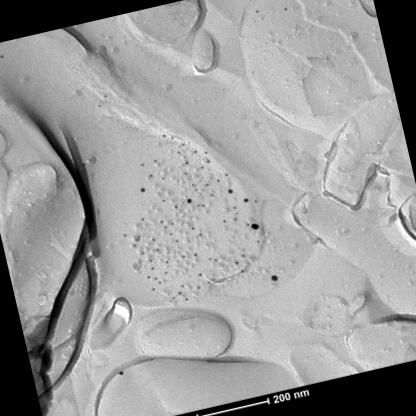6 nm Particle: (184, 295, 192, 303), (254, 238, 262, 245), (160, 132, 168, 139), (150, 236, 157, 243), (192, 148, 199, 155), (192, 252, 199, 258), (158, 219, 166, 224), (172, 204, 178, 210), (195, 203, 201, 209), (140, 216, 146, 222), (201, 203, 207, 209), (170, 221, 176, 227), (162, 224, 168, 230), (234, 210, 240, 216), (222, 218, 228, 224), (190, 226, 196, 232), (232, 216, 238, 222), (168, 232, 174, 238), (174, 237, 180, 243), (180, 253, 186, 259), (213, 256, 219, 262), (146, 274, 152, 280), (240, 252, 246, 258), (153, 276, 159, 282), (234, 259, 240, 265), (157, 279, 163, 285), (197, 272, 203, 278), (151, 286, 157, 292), (180, 283, 186, 289), (178, 290, 184, 296), (152, 158, 158, 164), (184, 160, 190, 166), (148, 172, 154, 178), (193, 186, 199, 192), (210, 191, 216, 197), (231, 205, 237, 210), (122, 233, 128, 238), (132, 244, 138, 249), (198, 233, 204, 238), (140, 250, 145, 256), (155, 247, 161, 252), (164, 259, 170, 264), (163, 270, 169, 275), (240, 268, 245, 274), (197, 284, 202, 290), (175, 150, 181, 155), (140, 162, 146, 167), (203, 150, 209, 155), (184, 171, 190, 176), (224, 172, 229, 178), (216, 178, 221, 184), (245, 222, 250, 227), (148, 259, 153, 264), (150, 266, 155, 271), (208, 256, 213, 261), (181, 142, 186, 147), (160, 176, 166, 180), (137, 234, 141, 239), (136, 237, 140, 242), (206, 280, 211, 284), (172, 295, 176, 300), (200, 165, 205, 169), (191, 182, 195, 187), (205, 182, 210, 186), (162, 198, 166, 202), (207, 158, 210, 163)
